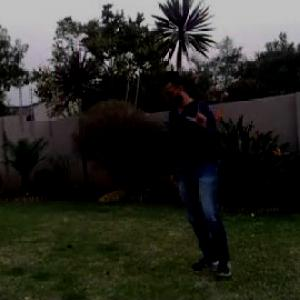land_hand: (183, 95, 218, 128)
